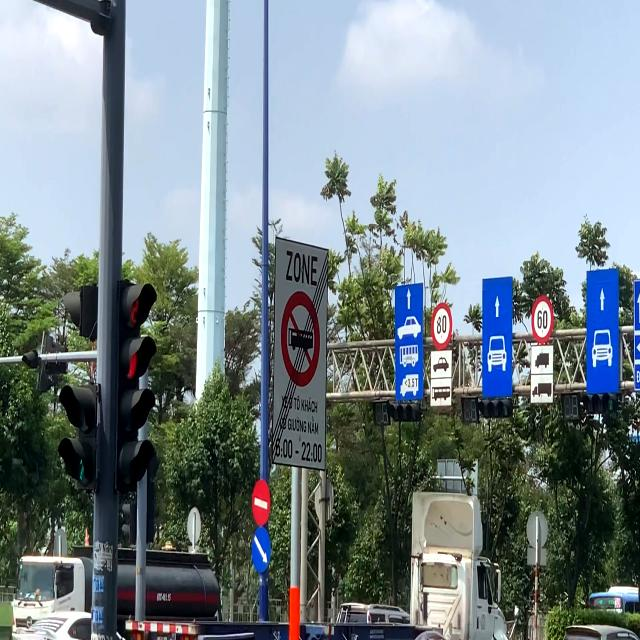P.102: (250, 478, 272, 526)
P.127: (532, 293, 553, 344), (431, 302, 452, 348)
R.302a: (251, 525, 272, 575)
